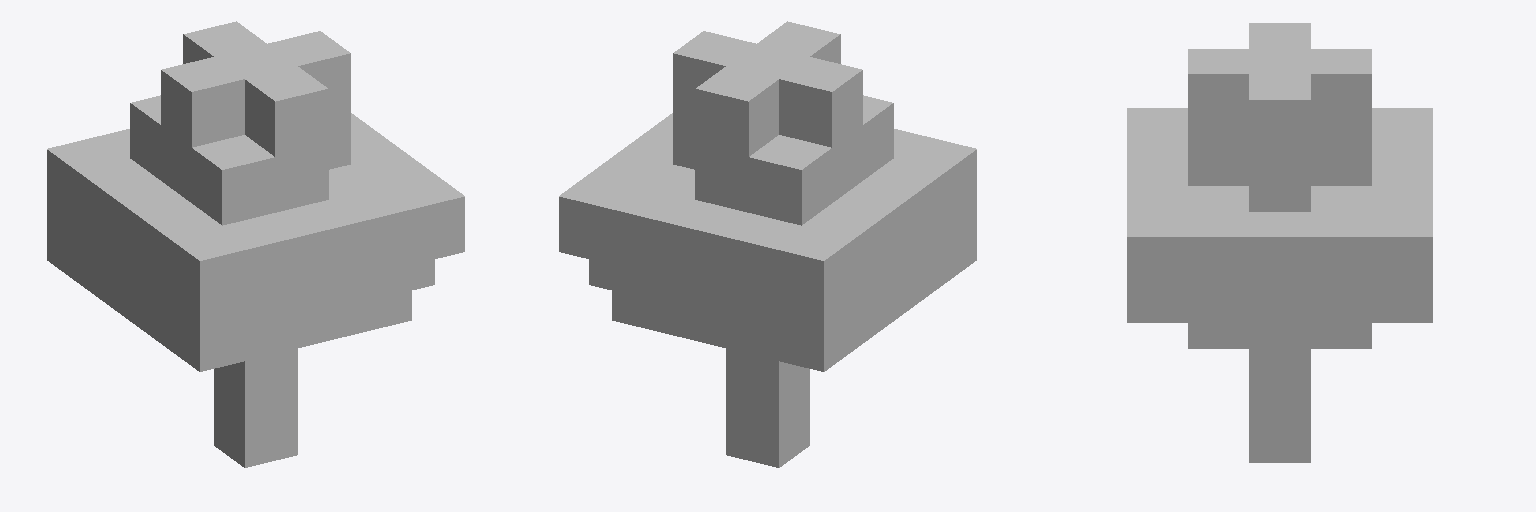
The model's file is treeModel.obj.
The picture shows the model from 3 angles: view 1: azimuth 30°, elevation 25°; view 2: azimuth 150°, elevation 25°; view 3: azimuth 270°, elevation 25°; orthographic projection.
Bounding box in the file's own units: 20 × 28 × 20.